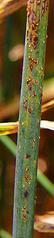Wheat: (21, 3, 47, 117)
